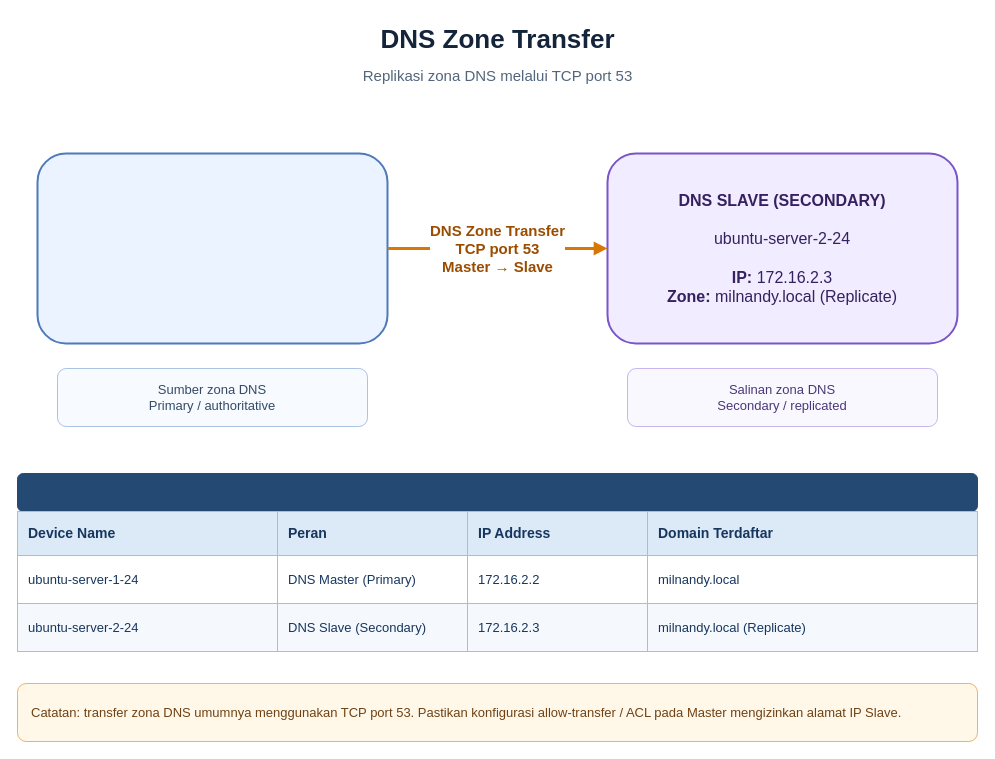
This 995x759 diagram has some shape labels left out. Each missing label, with the box of its shape:
DNS MASTER (PRIMARY) ubuntu-server-1-24 IP: 172.16.2.2 Zone: milnandy.local: (36, 152, 388, 344)
Tabel Pengamatan IP / Interface: (16, 472, 978, 512)
